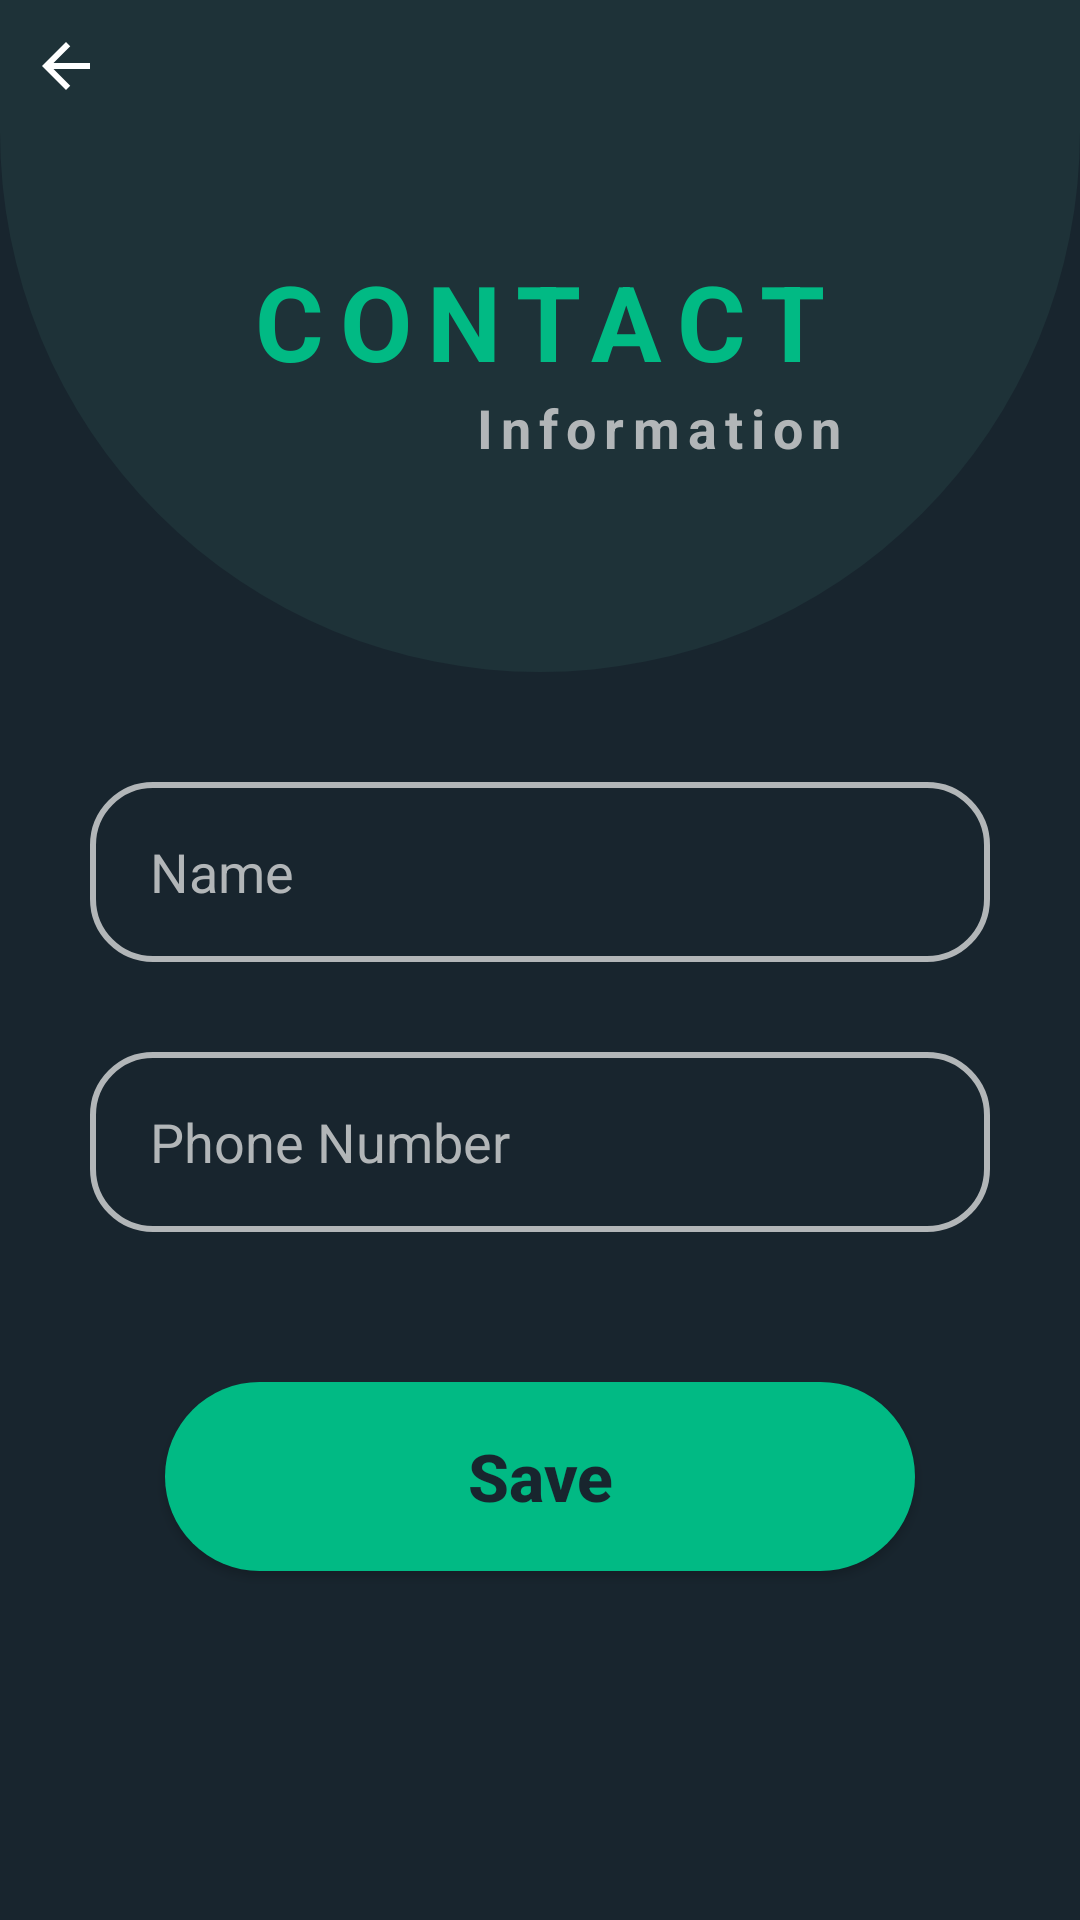

Where icons sit on this 1080x1920 app screen, as (x1, y1, x2, y2):
arrow back: (42, 42, 90, 90)
